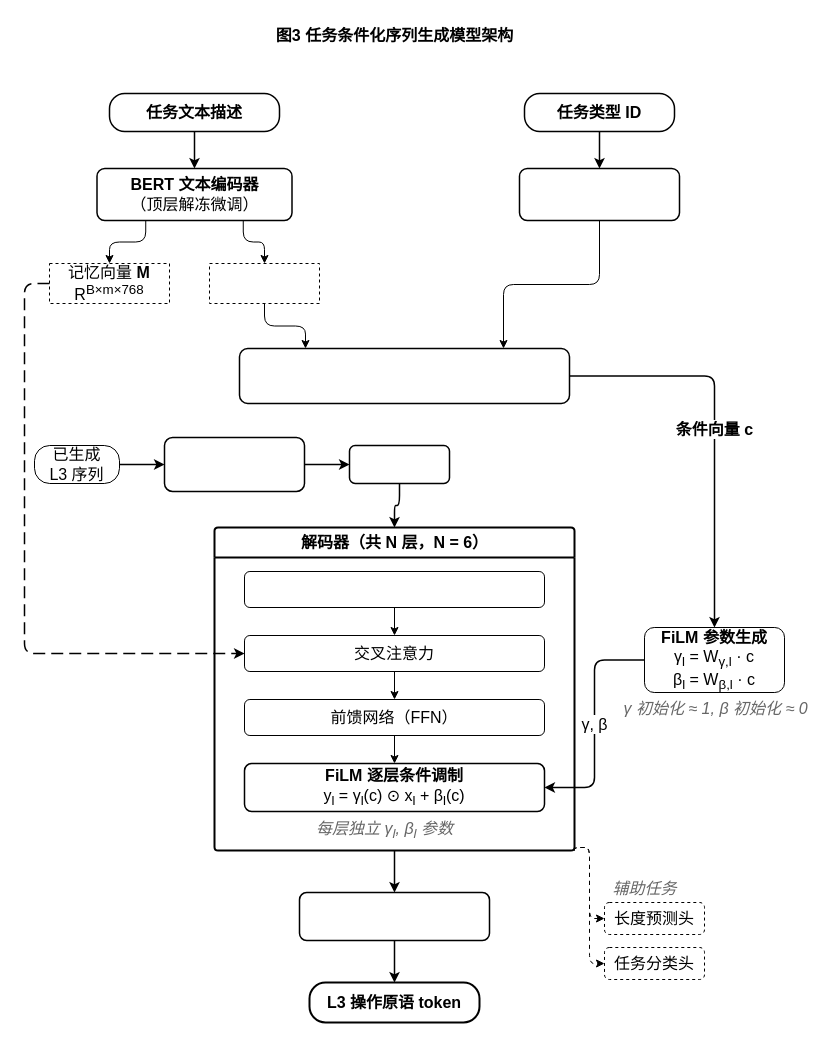
Image size: 838x1040. Some labels were removed from this diagram. The shapes that lost their labels are listed below. From the top down, each one's centre as x and y in pixels, then its label:
the point at 599,194: 类型嵌入层
the point at 264,283: 池化 CLS 向量
the point at 404,375: 条件融合模块 拼接 → 线性映射 → 层归一化 → GELU
the point at 234,464: 词嵌入层 （图嵌入初始化）
the point at 399,464: 位置编码
the point at 394,589: 掩码自注意力
the point at 394,916: 输出投影层 （与词嵌入层权重共享）
